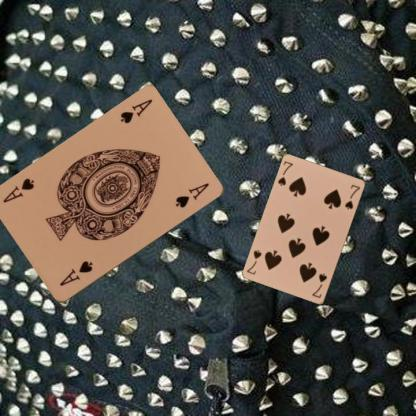7s: (275, 158, 294, 188), (310, 270, 328, 300)
As: (56, 258, 94, 288), (118, 96, 154, 126)
